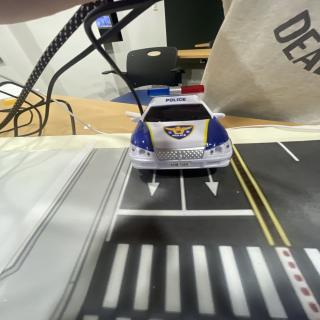Police_car: (129, 85, 232, 170)
